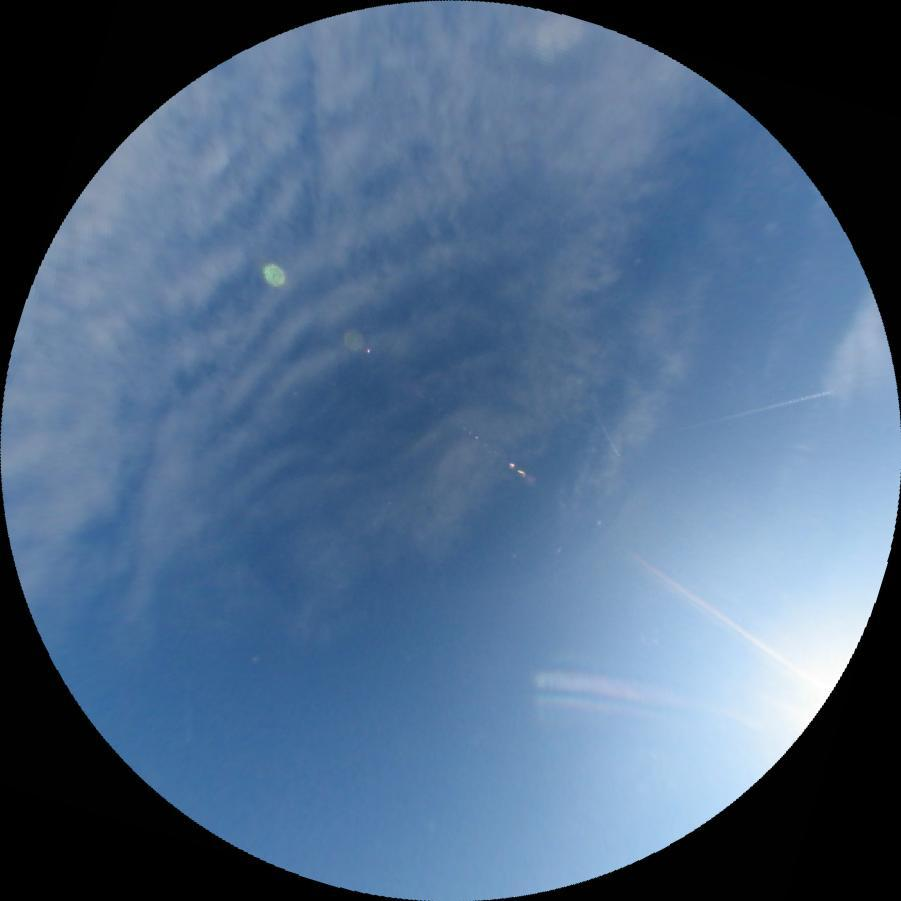contrail young: (678, 388, 833, 431), (594, 414, 620, 457), (186, 693, 192, 740)
parasite: (632, 553, 787, 663), (532, 666, 704, 714)
